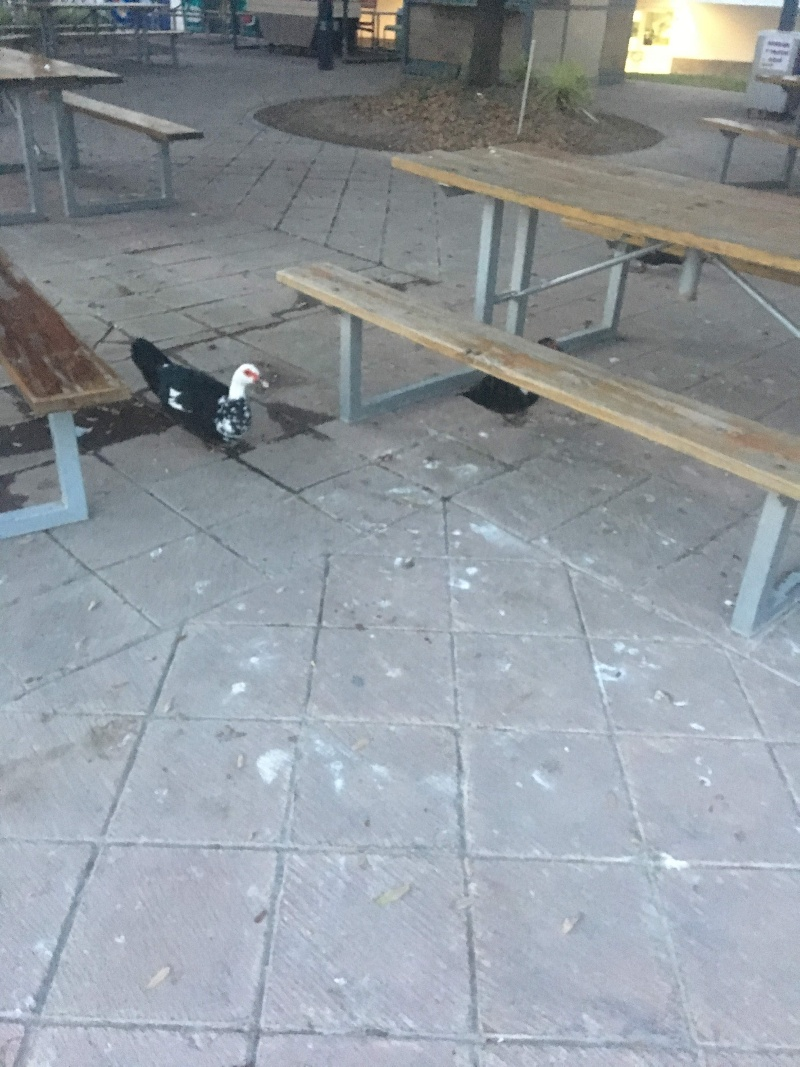pato: (121, 332, 262, 456)
